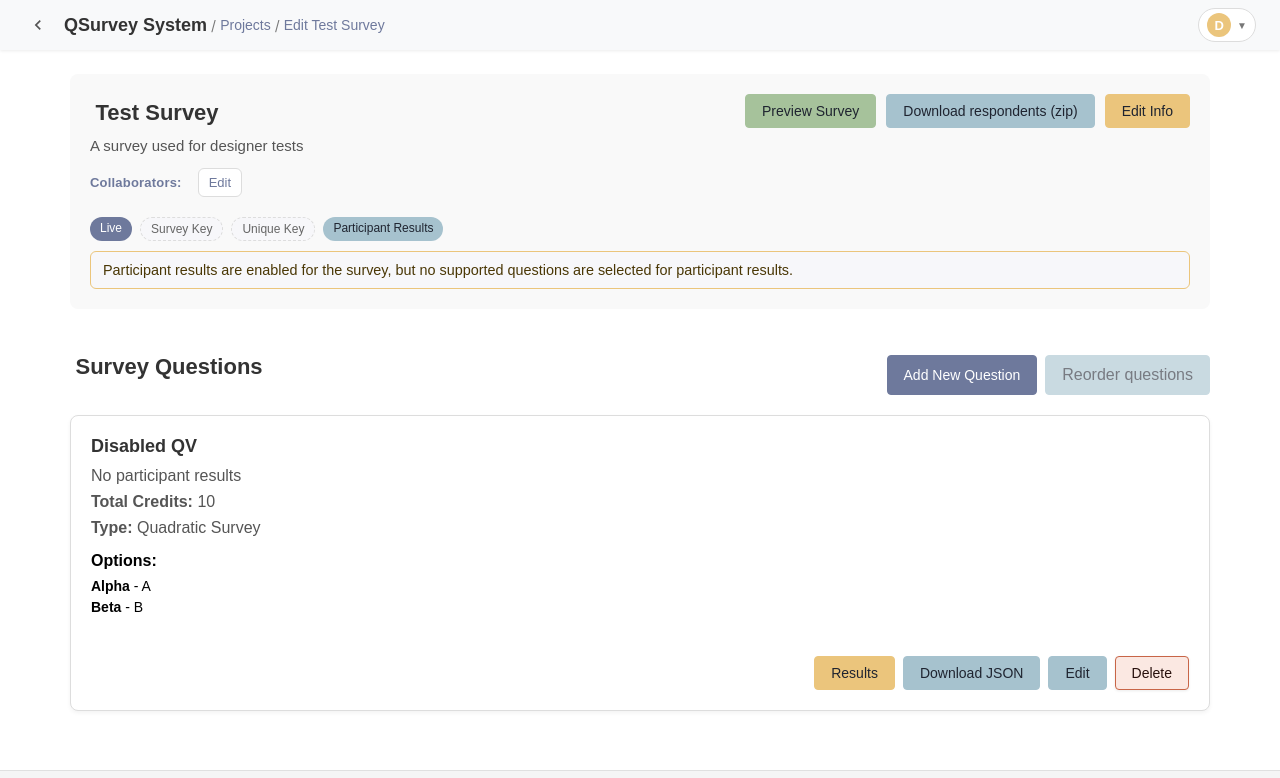
SurveyEdit designer workflows › warns when survey participant results are on but no supported questions are enabled
Expected: the heading "Disabled QV" is shown, [91,436,197,456]
Expected: the text "no supported questions are selected for participant results" is shown, [103,262,793,278]
Click the button "Edit Info": [1147, 111] box [1105,94,1190,128]
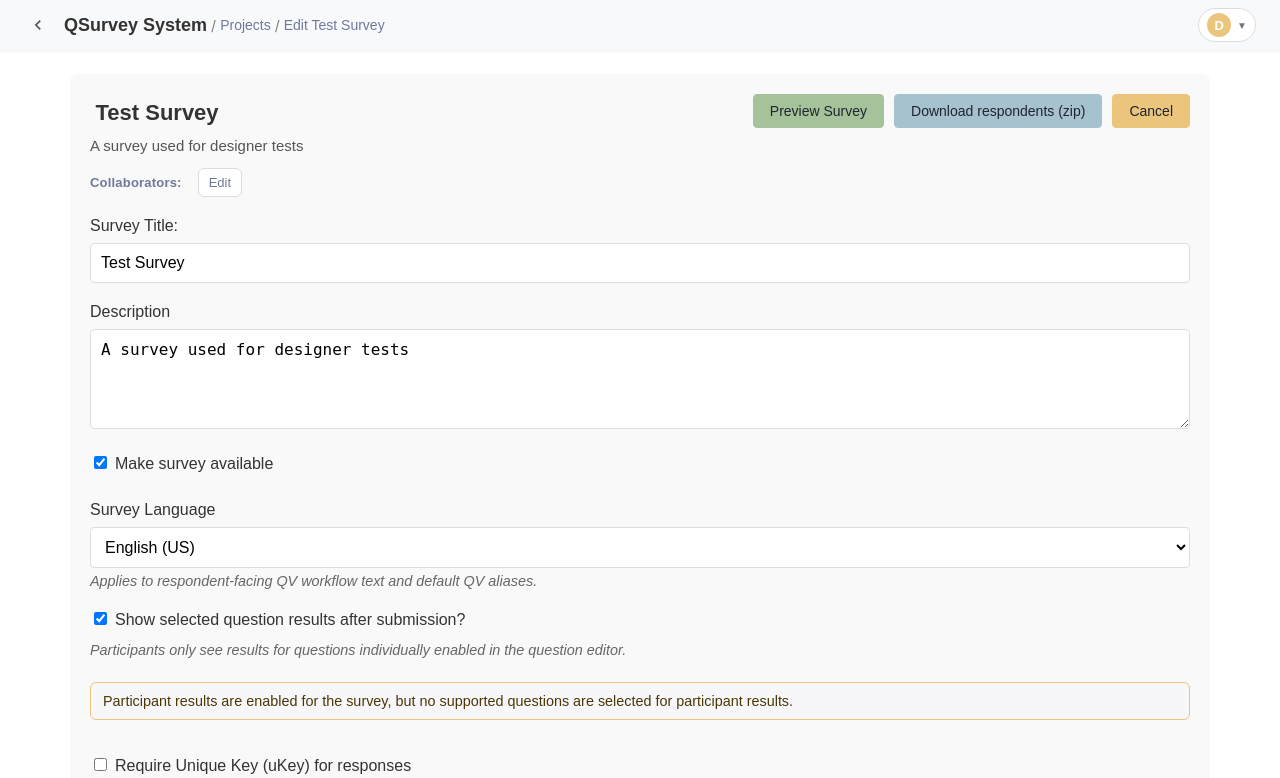
Result: the text "no supported questions are selected for participant results" is shown once at [90,682,1190,720]
Result: the checkbox labelled "Show selected question results after submission?" is checked
Click the checkbox labelled "Show selected question results after submission?": [100, 618] box [94,612,107,625]
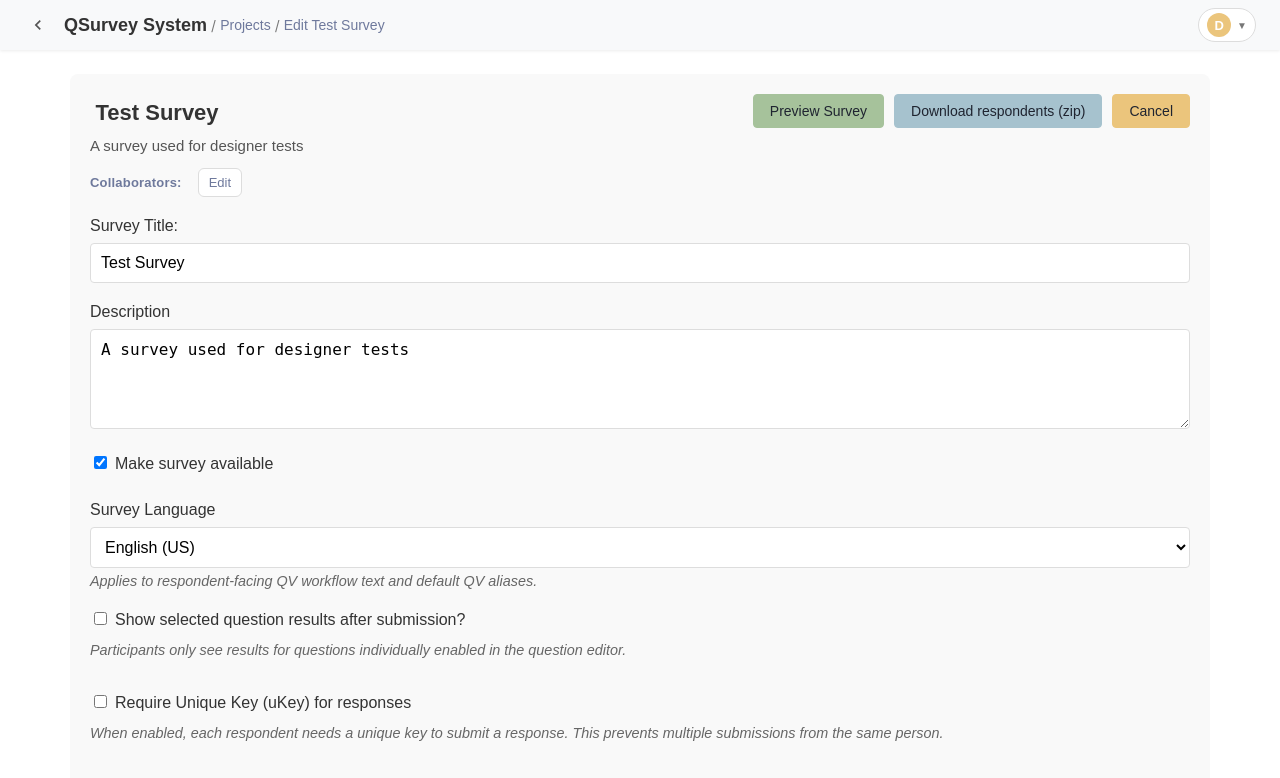
Result: the text "no supported questions are selected for participant results" is gone
Click the checkbox labelled "Show selected question results after submission?": [100, 618] box [94,612,107,625]
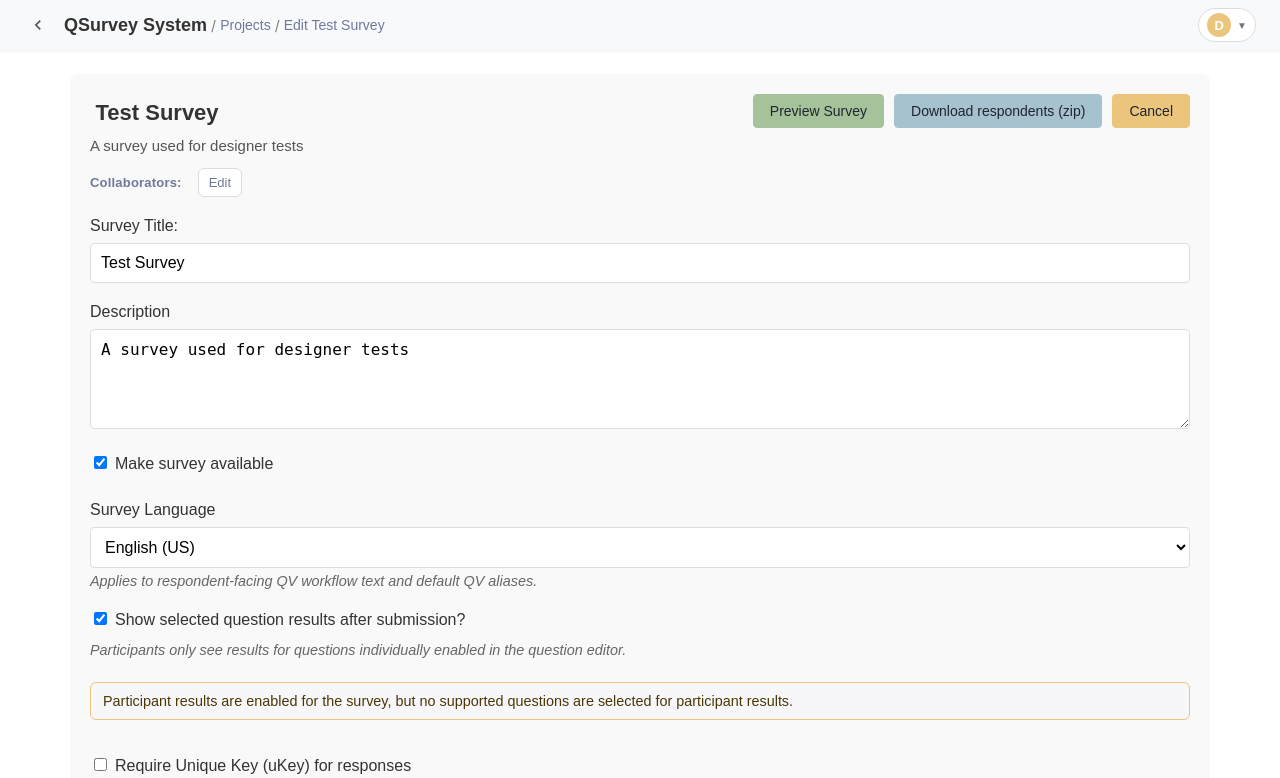
Result: the text "no supported questions are selected for participant results" is shown once at [90,682,1190,720]
